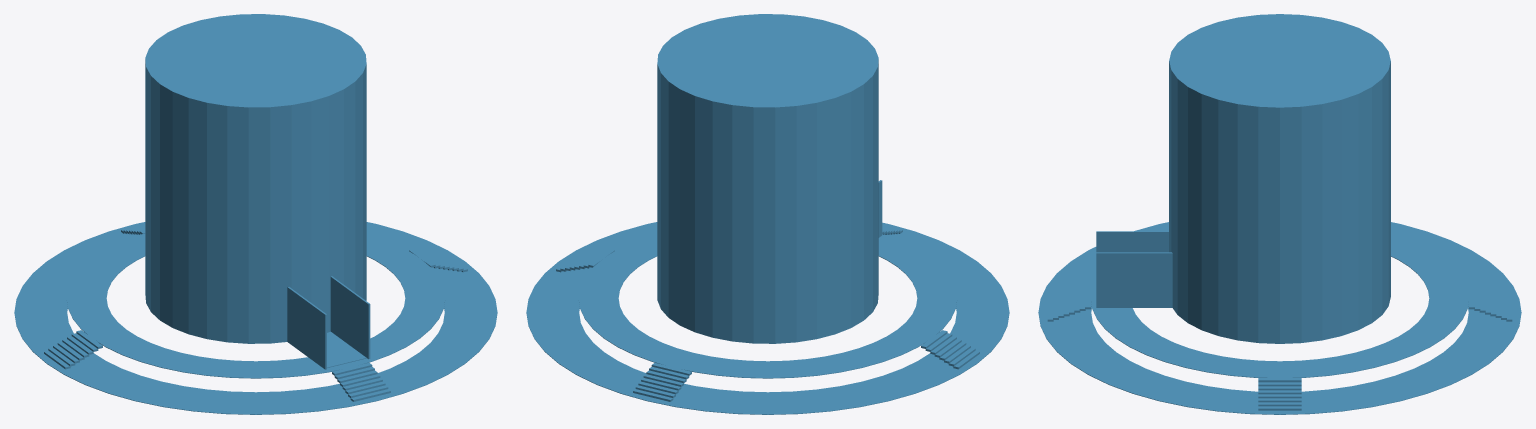
File: HNP_Chedi_M05_Collision_v004.fbx
3 renders of one model, left to right at view 1: azimuth 30°, elevation 25°; view 2: azimuth 150°, elevation 25°; view 3: azimuth 270°, elevation 25°, orthographic.
Visible parts, largest first — view 1: COLL_HNP_Chedi_v004_M05__HNP_Chedi_Collision; view 2: COLL_HNP_Chedi_v004_M05__HNP_Chedi_Collision; view 3: COLL_HNP_Chedi_v004_M05__HNP_Chedi_Collision.
Part boxes in pixels (<box>): COLL_HNP_Chedi_v004_M05__HNP_Chedi_Collision: <box>14,14,497,414</box>; COLL_HNP_Chedi_v004_M05__HNP_Chedi_Collision: <box>526,14,1009,414</box>; COLL_HNP_Chedi_v004_M05__HNP_Chedi_Collision: <box>1038,14,1521,414</box>.
Bounding box in the file's own units: 74.1 × 42.66 × 74.1.
